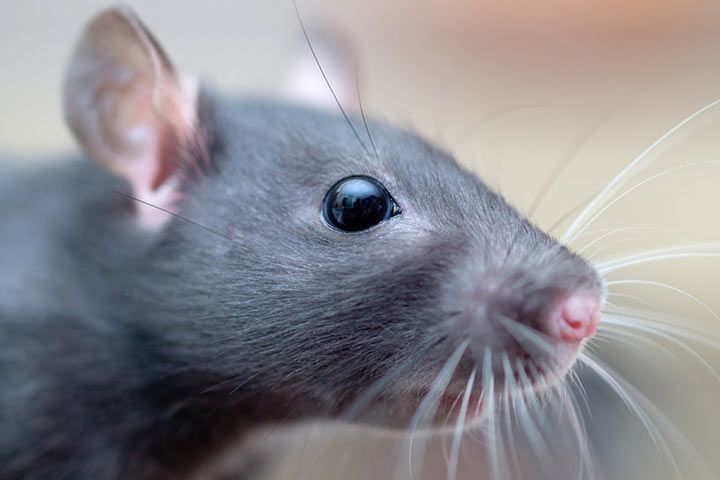rat: (7, 4, 635, 456)
